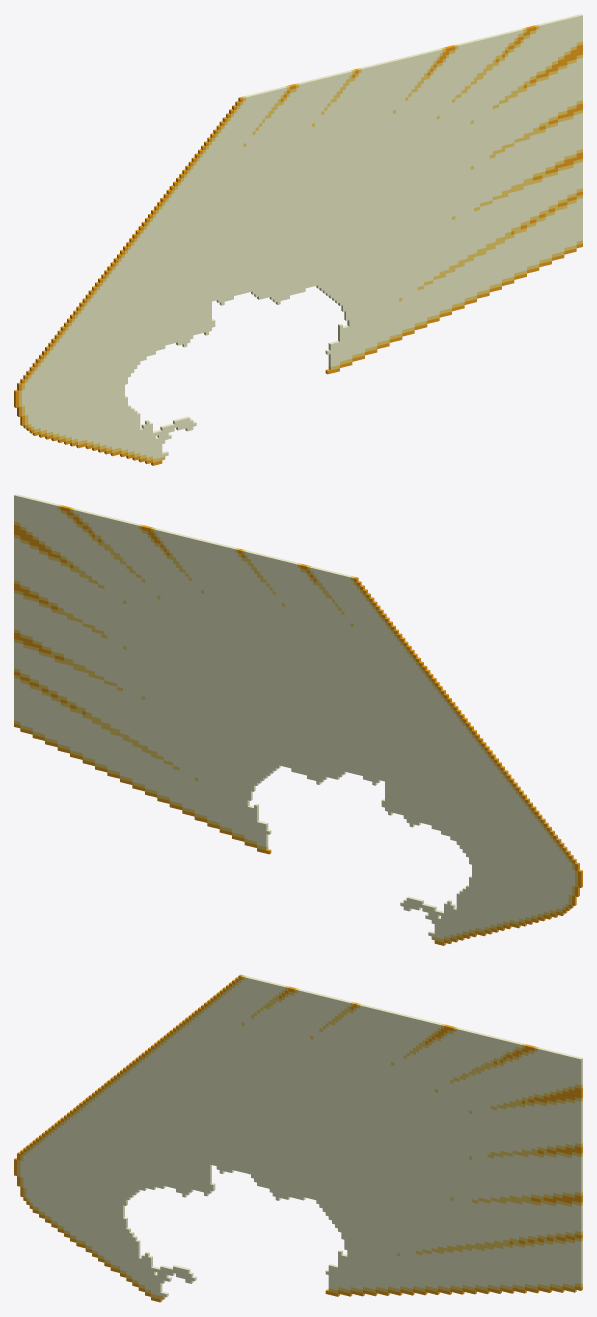
File: Fight_029_3_10_fx.obj
3 renders of one model, top to bottom at view 1: azimuth 30°, elevation 25°; view 2: azimuth 150°, elevation 25°; view 3: azimuth 330°, elevation 25°, orthographic.
Bounding box in the file's own units: 18.2 × 10.6 × 0.1.
1 material, 1 textured.
